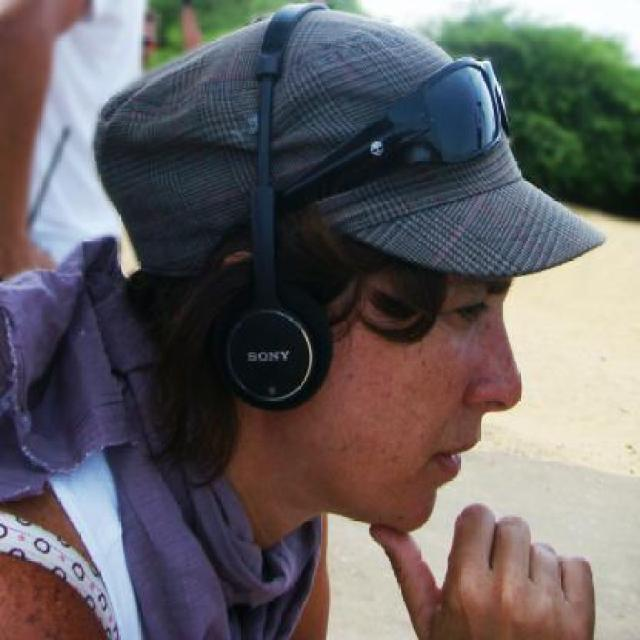earphone: (223, 0, 357, 435)
